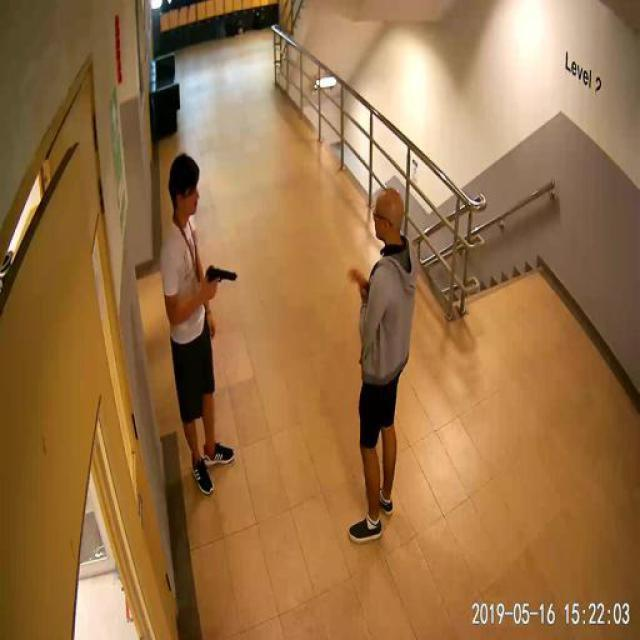weapon: (204, 266, 238, 284)
